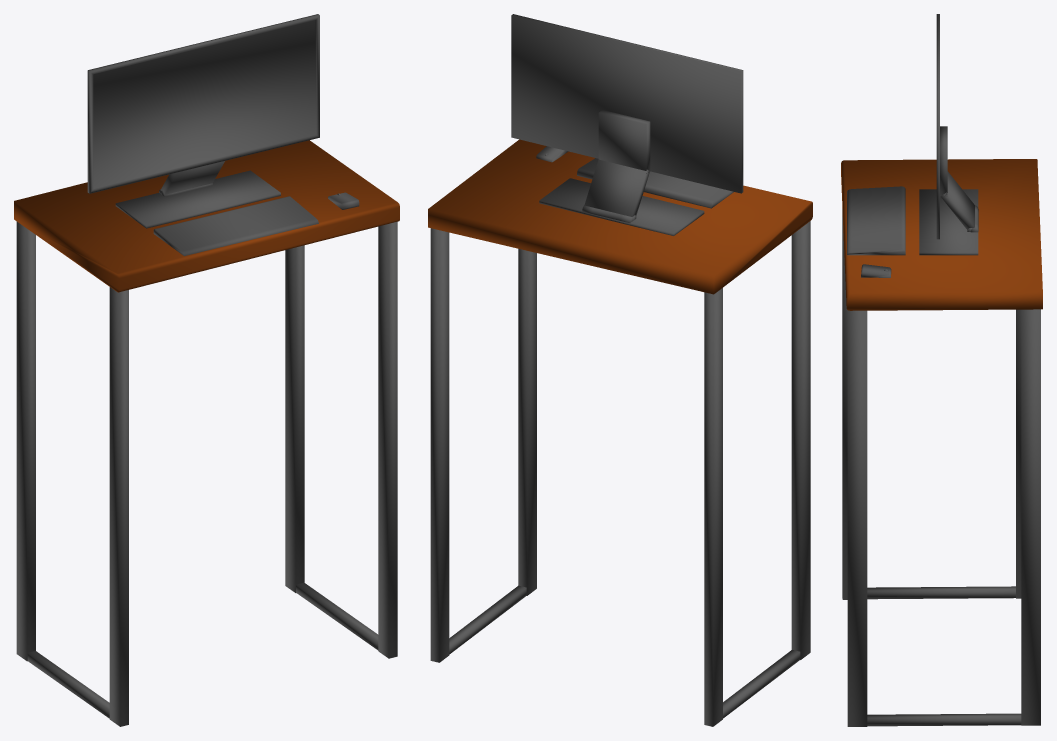
File: standing desk and computer.obj
The picture shows the model from 3 angles, left to right: view 1: azimuth 30°, elevation 25°; view 2: azimuth 150°, elevation 25°; view 3: azimuth 270°, elevation 25°; orthographic projection. The views are drawn at different scales.
Visible parts, largest first — view 1: Box001, desktop, Box002, Box003, Box004, Box005, keyboard, Box006, Box007; view 2: Box001, desktop, Box002, Box003, Box004, Box005, keyboard, Box006, Box007; view 3: desktop, Box004, Box005, Box002, keyboard, Box003, Box006, Box007, Box001.
Boxes of the visible parts, left/top/right/bottom form: Box001: left=87, top=14, right=319, bottom=193; desktop: left=14, top=140, right=399, bottom=292; Box002: left=109, top=170, right=280, bottom=726; Box003: left=16, top=161, right=224, bottom=661; Box004: left=378, top=221, right=397, bottom=658; Box005: left=285, top=245, right=304, bottom=592; keyboard: left=153, top=196, right=318, bottom=256; Box006: left=296, top=192, right=378, bottom=650; Box007: left=27, top=651, right=109, bottom=718; Box001: left=511, top=14, right=743, bottom=193; desktop: left=428, top=139, right=812, bottom=294; Box002: left=539, top=178, right=810, bottom=659; Box003: left=584, top=159, right=722, bottom=726; Box004: left=518, top=110, right=650, bottom=595; Box005: left=430, top=228, right=449, bottom=662; keyboard: left=577, top=158, right=733, bottom=208; Box006: left=449, top=146, right=568, bottom=654; Box007: left=723, top=650, right=800, bottom=718; desktop: left=841, top=159, right=1042, bottom=310; Box004: left=847, top=126, right=947, bottom=726; Box005: left=1021, top=309, right=1040, bottom=725; Box002: left=842, top=189, right=978, bottom=599; keyboard: left=847, top=186, right=905, bottom=255; Box003: left=940, top=171, right=1021, bottom=598; Box006: left=861, top=264, right=1021, bottom=726; Box007: left=867, top=586, right=1015, bottom=599; Box001: left=936, top=14, right=939, bottom=239.
Bounding box in the file's own units: 80.86 × 166 × 51.39.
